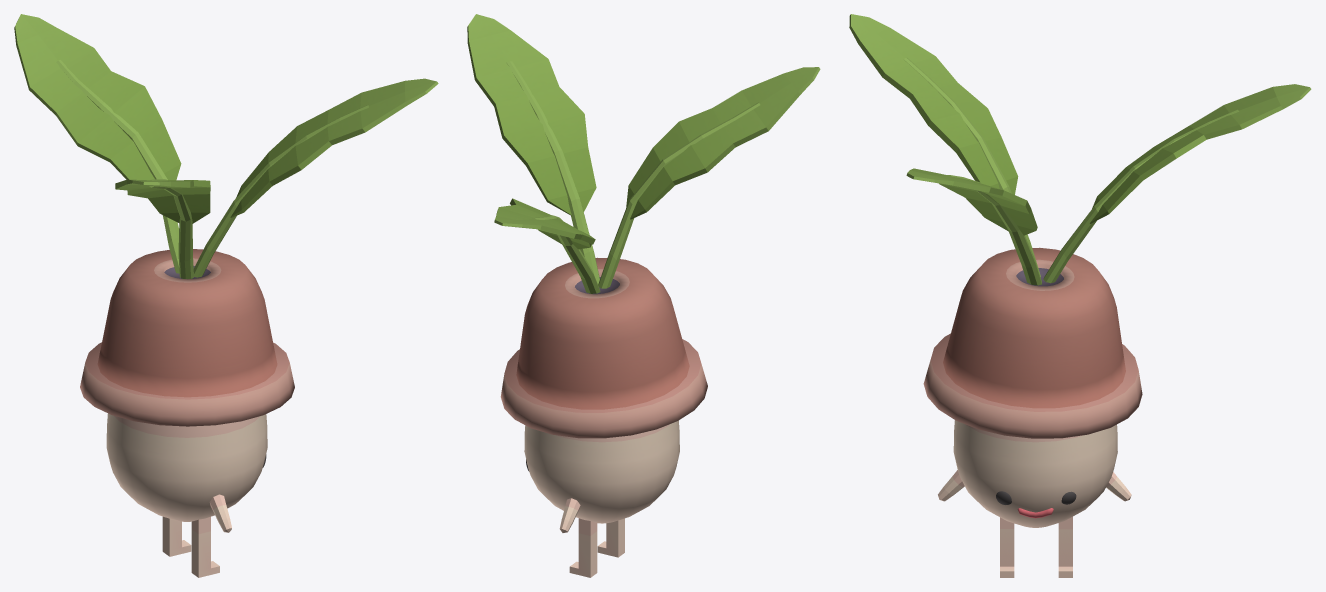
Rendered from pot_dude3.obj.
The picture shows the model from 3 angles, left to right: view 1: azimuth 30°, elevation 25°; view 2: azimuth 150°, elevation 25°; view 3: azimuth 270°, elevation 25°; orthographic projection. The views are drawn at different scales.
Parts seen in each view (by area): view 1: Sphere; view 2: Sphere; view 3: Sphere.
Boxes of the visible parts, left/top/right/bottom form: Sphere: left=14, top=14, right=438, bottom=577; Sphere: left=467, top=14, right=820, bottom=577; Sphere: left=849, top=14, right=1311, bottom=577.
Size of the model in its own units: 0.7865 by 1.1 by 0.9394.
